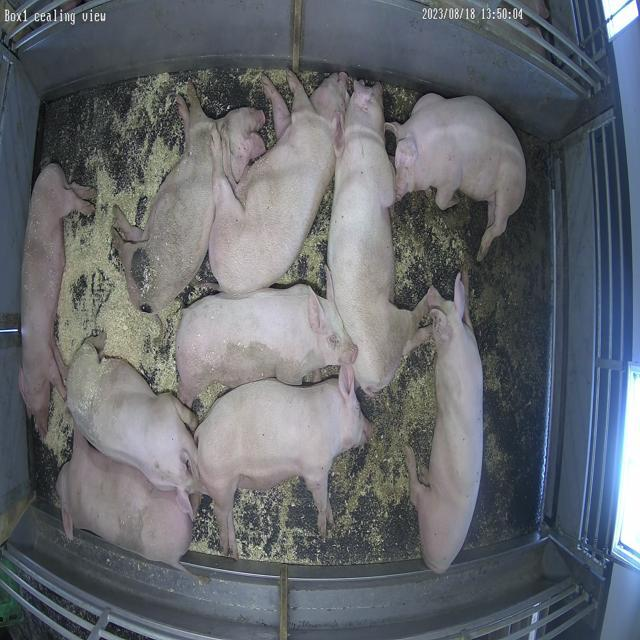Dirt: (467, 133, 553, 548)
Pig: (195, 366, 371, 560), (209, 71, 348, 294), (328, 81, 427, 394), (112, 82, 218, 312), (65, 339, 198, 518), (406, 274, 484, 574), (388, 93, 527, 260), (176, 285, 357, 406), (19, 163, 94, 438), (219, 108, 265, 182)
